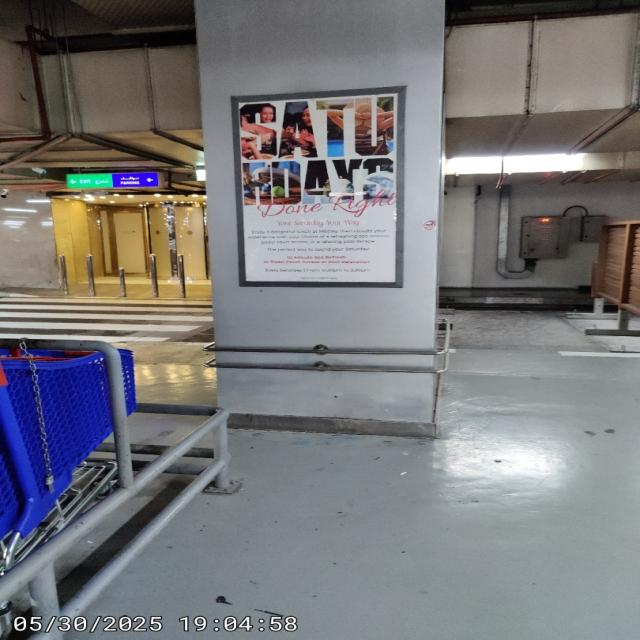poster: (237, 85, 405, 288)
